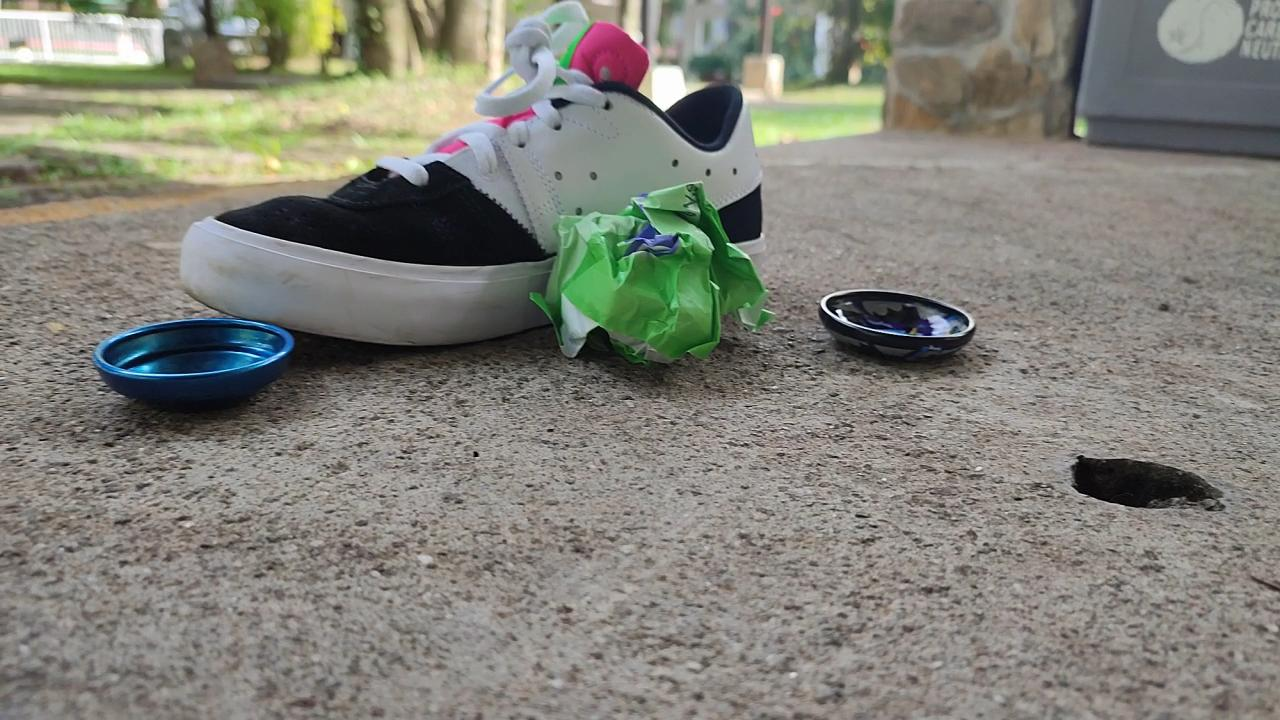Paper: (522, 170, 781, 382)
